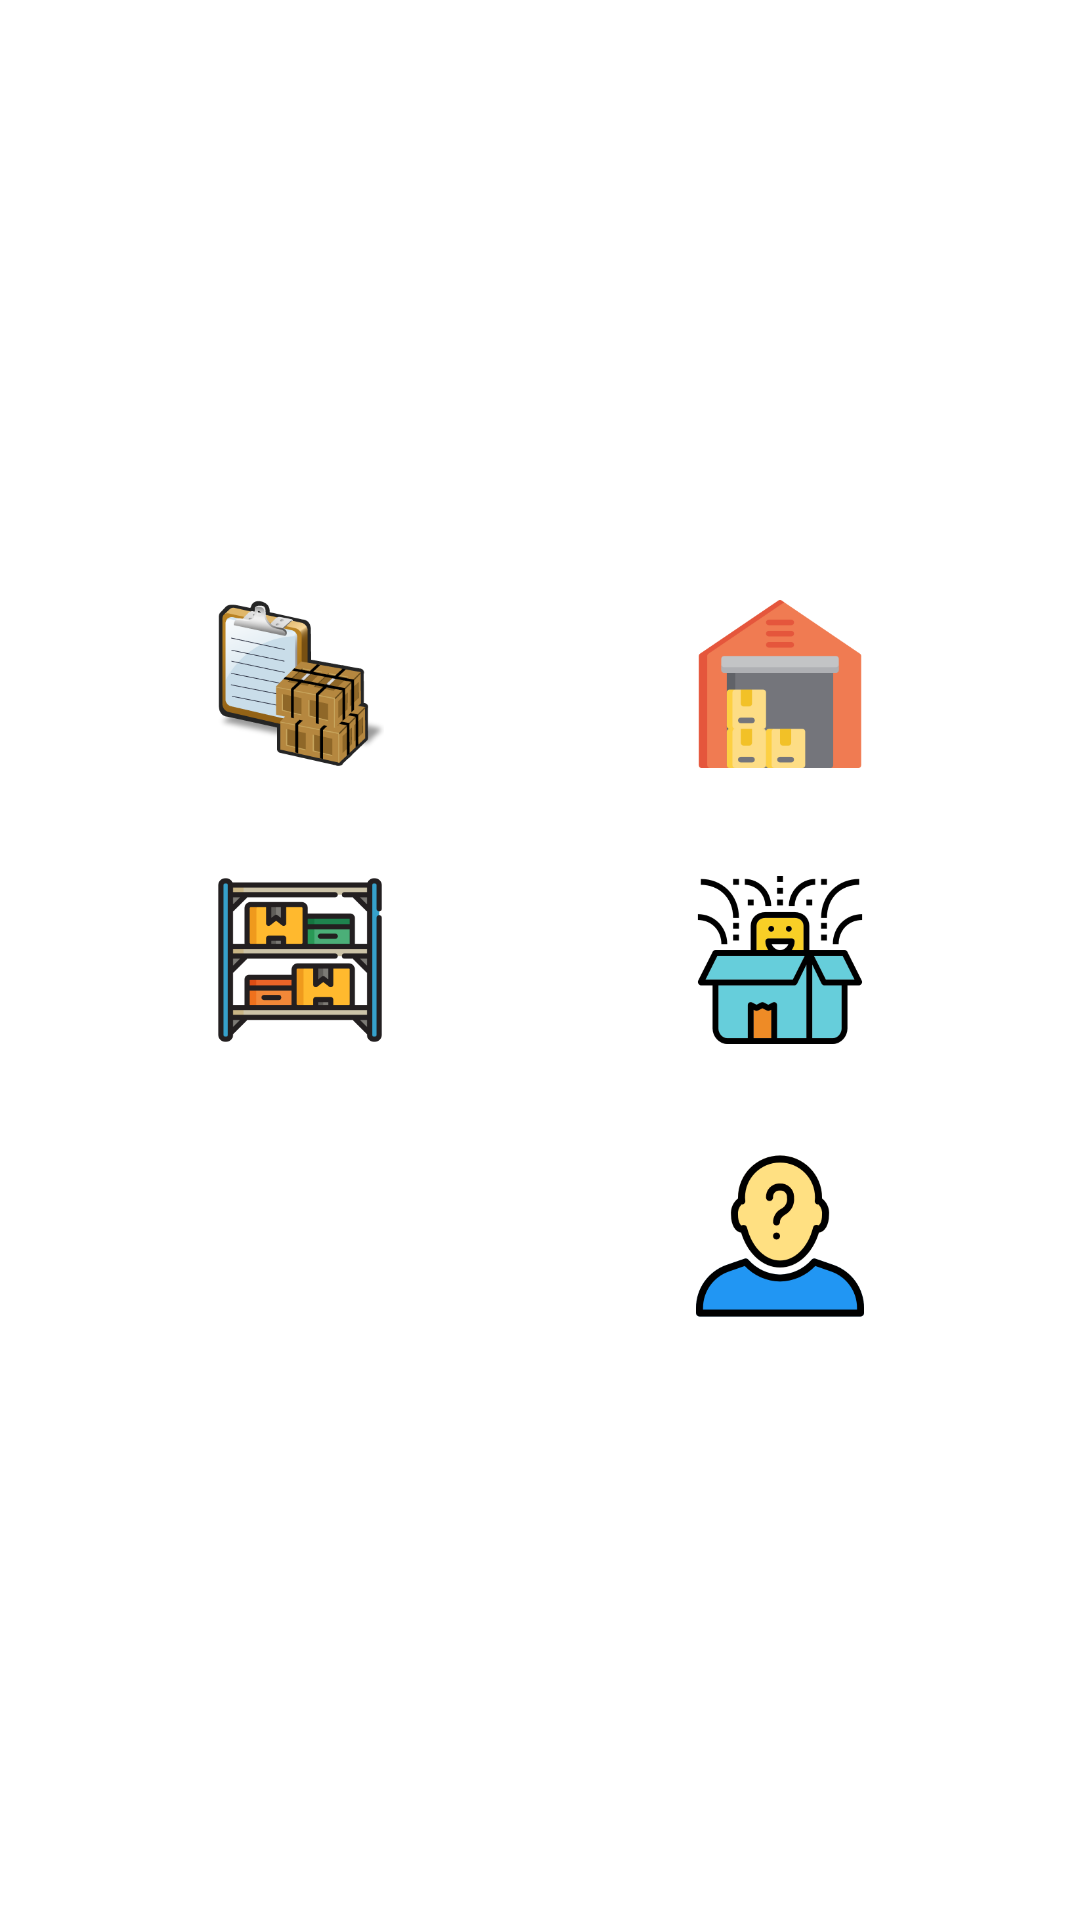

Icon click points for this 1080px x 1920px phone screenshot, format [x,y]:
aboutme: [780,1236]
dependencias: [780,684]
inventori: [299,683]
product: [780,960]
sectores: [300,960]
